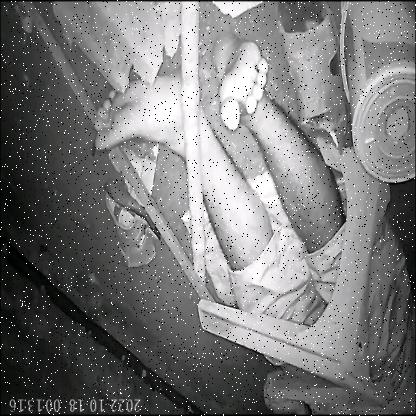leg: (86, 64, 277, 276), (205, 24, 342, 244)
